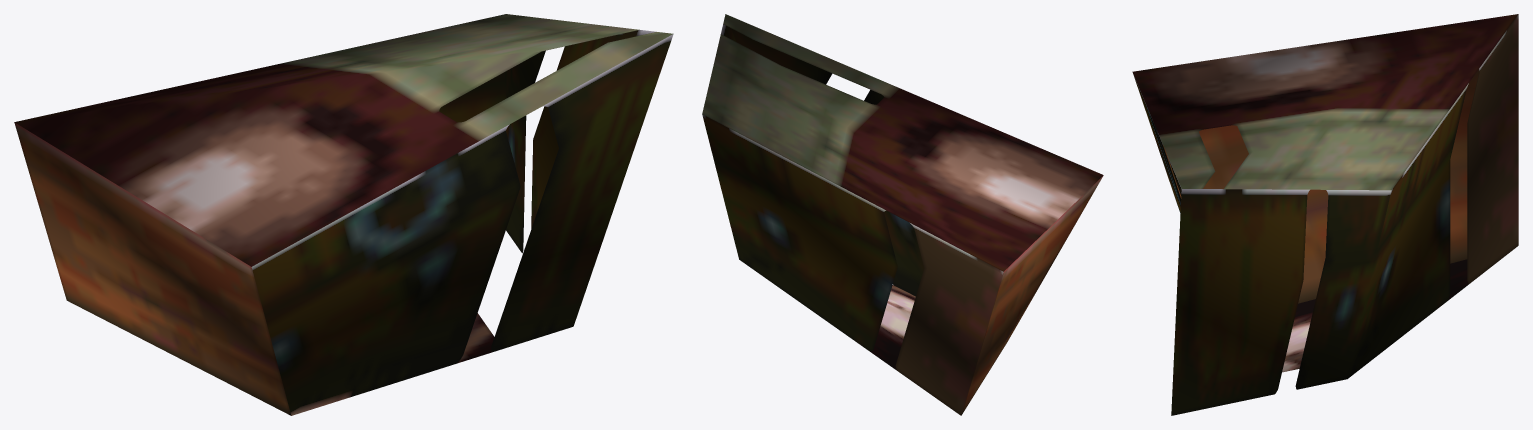
The picture shows the model from 3 angles, left to right: view 1: azimuth 30°, elevation 25°; view 2: azimuth 150°, elevation 25°; view 3: azimuth 270°, elevation 25°; orthographic projection. The views are drawn at different scales.
Parts seen in each view (by area): view 1: T1L4M004_12; view 2: T1L4M004_12; view 3: T1L4M004_12.
Part boxes in pixels (left/top/right/bottom): T1L4M004_12: left=14, top=14, right=673, bottom=415; T1L4M004_12: left=702, top=14, right=1103, bottom=415; T1L4M004_12: left=1132, top=14, right=1518, bottom=415.
Size of the model in its own units: 0.2334 by 0.1357 by 0.1455.
